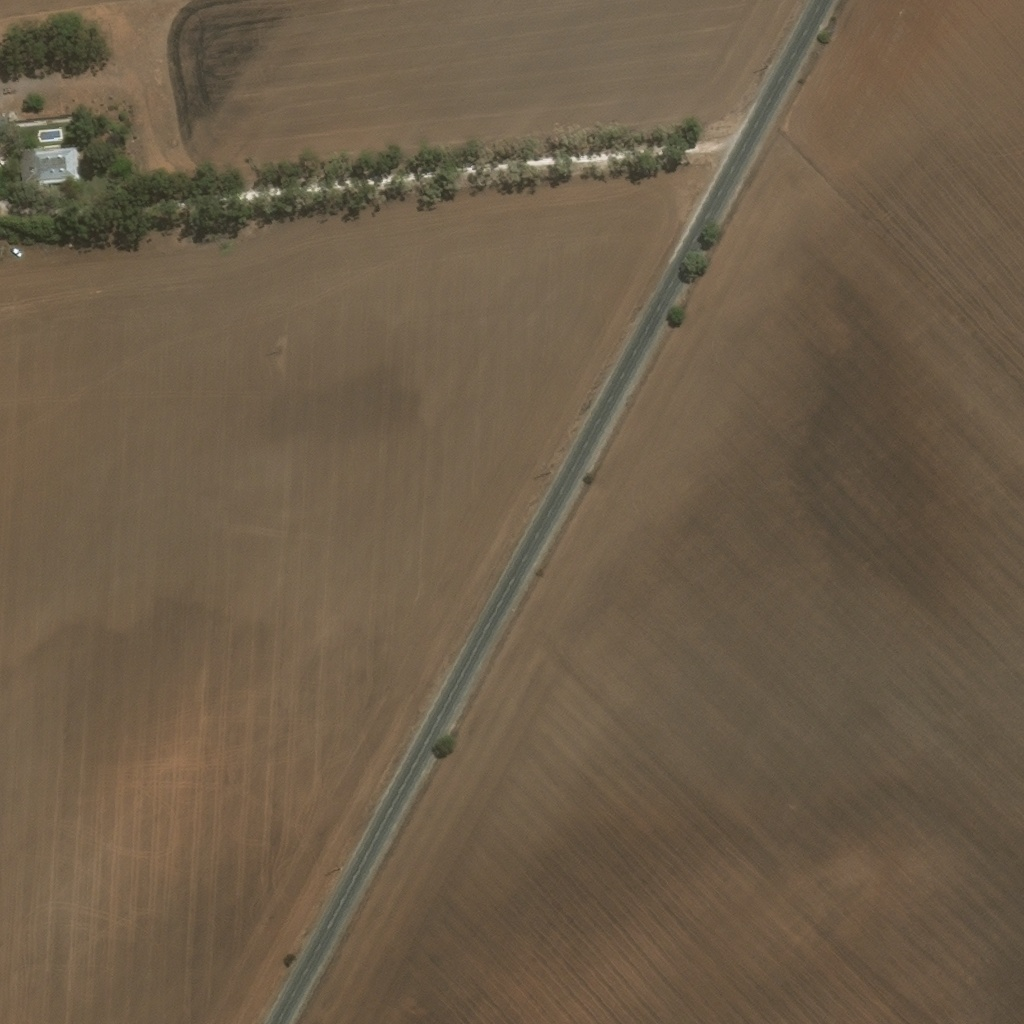0 no-damage: (20, 147, 79, 180)
